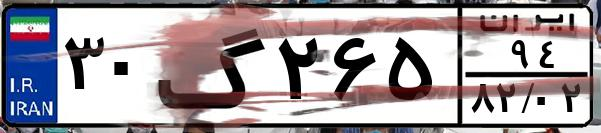0: (110, 28, 156, 98), (535, 70, 560, 125)
2: (270, 28, 330, 110), (560, 70, 590, 125), (495, 70, 520, 125)
3: (57, 26, 110, 100)
4: (537, 27, 568, 80)
5: (385, 28, 445, 110)
6: (330, 28, 385, 110)
8: (470, 70, 495, 125)
9: (508, 27, 537, 80)
گ: (156, 12, 270, 120)
